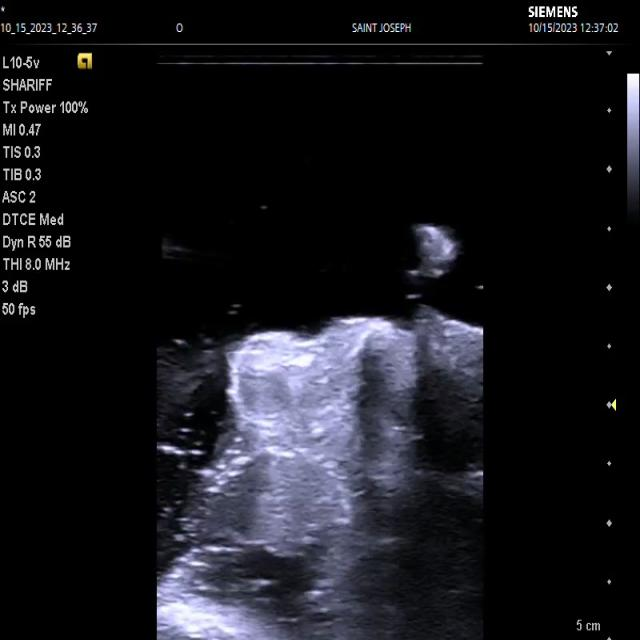tissue: (159, 317, 482, 640), (412, 224, 462, 278)
